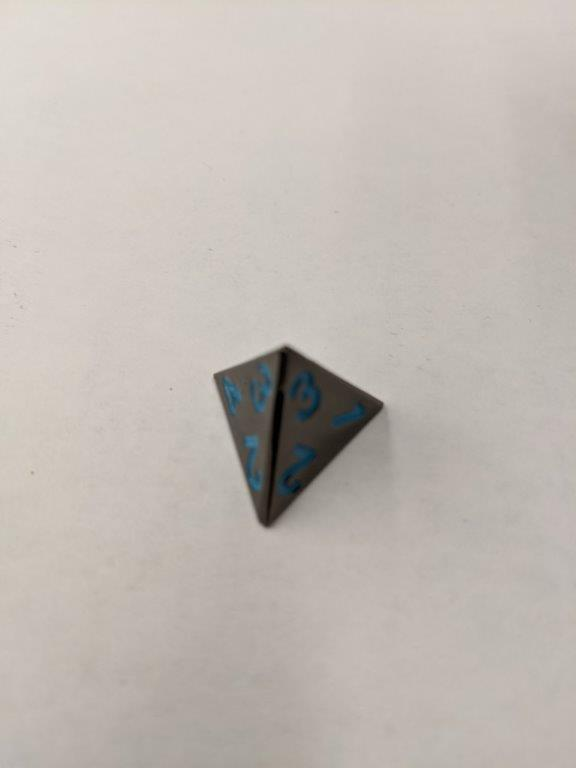d4-3: (207, 340, 386, 531)
